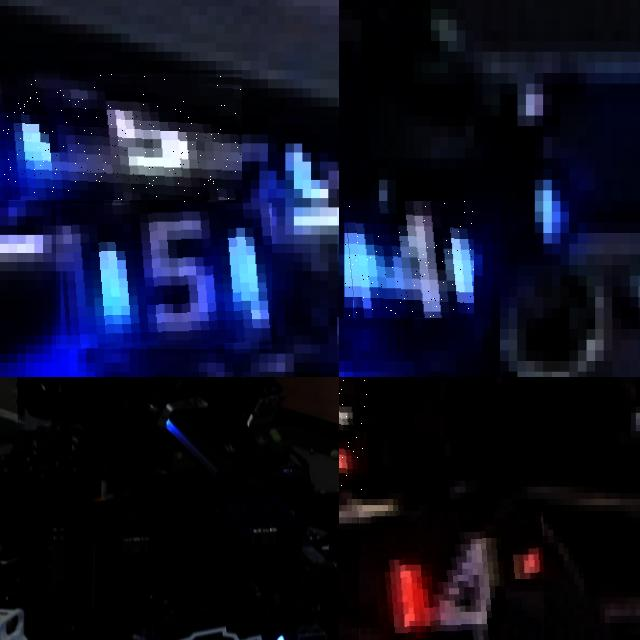B4: (344, 201, 474, 318)
B5: (56, 203, 272, 349), (0, 74, 242, 202)
Bs: (146, 615, 287, 640)
R4: (359, 511, 545, 640)
